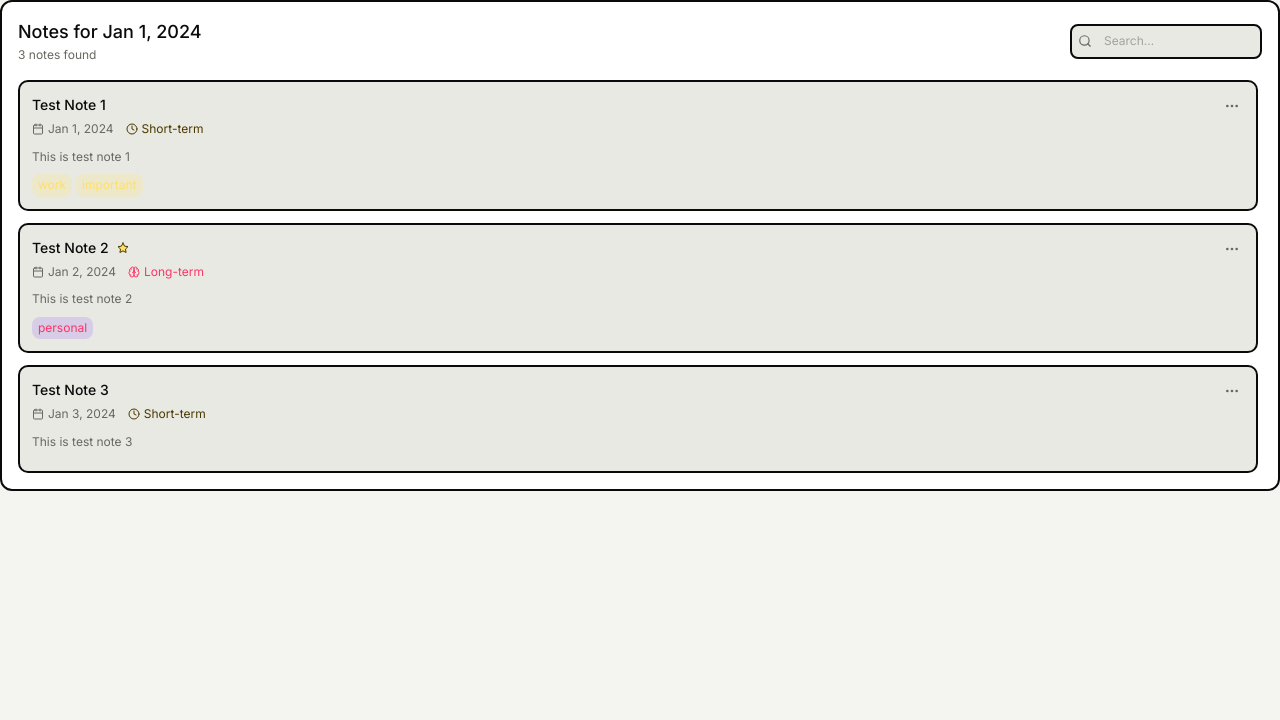
Scenario: NotesList Component › Search Functionality › should filter notes by content
Step 1. Type "test note 2" into the field with placeholder "Search..." → point(1166, 41), box x1=1070 y1=24 x2=1262 y2=58
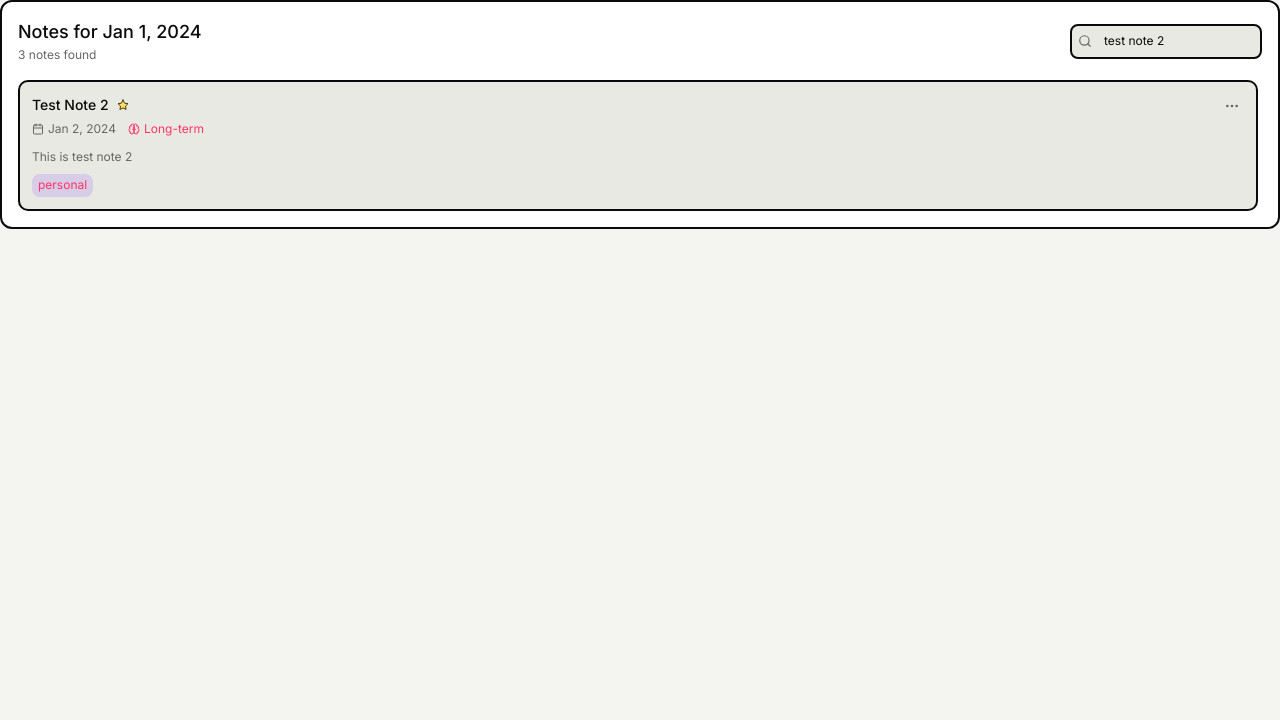
Expected: the heading "Test Note 2" is shown, x1=32 y1=94 x2=109 y2=116
Expected: the heading "Test Note 1" is gone
Expected: the heading "Test Note 3" is gone
